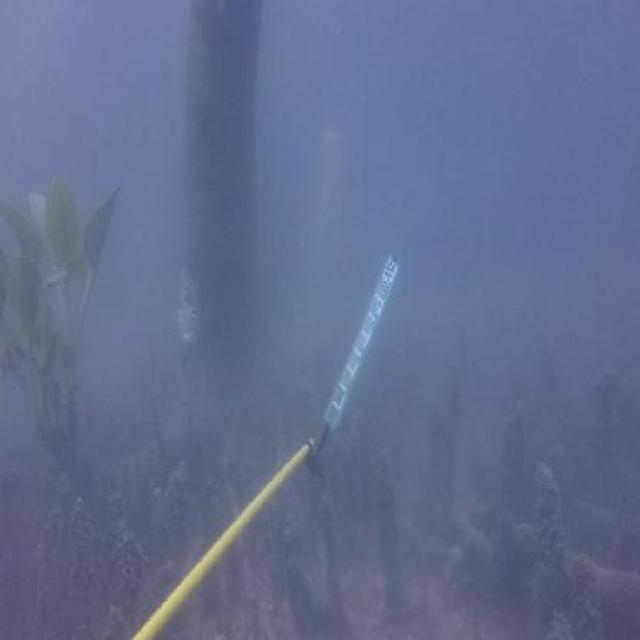acanthopagrus_palmaris: (174, 246, 208, 368)
